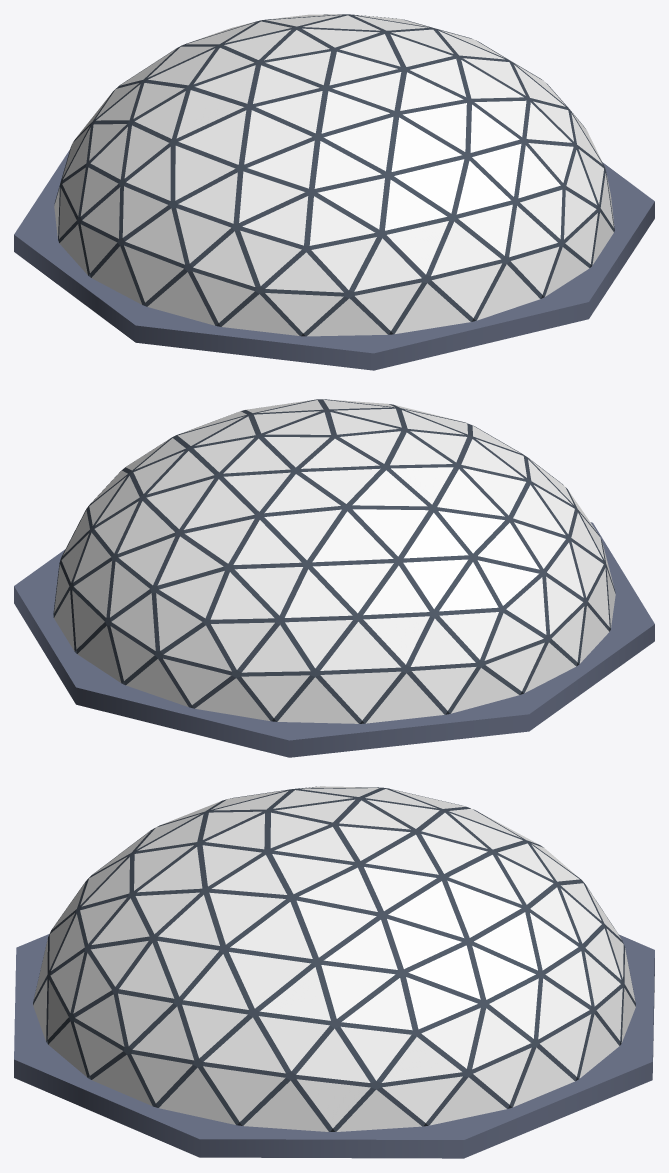
File: RoundRoof.FBX
The picture shows the model from 3 angles, top to bottom: view 1: azimuth 30°, elevation 25°; view 2: azimuth 150°, elevation 25°; view 3: azimuth 270°, elevation 25°; orthographic projection. The views are drawn at different scales.
Visible parts, largest first — view 1: Box001; view 2: Box001; view 3: Box001.
Boxes of the visible parts, left/top/right/bottom form: Box001: left=14, top=14, right=654, bottom=370; Box001: left=14, top=399, right=654, bottom=757; Box001: left=14, top=786, right=654, bottom=1158.
Bounding box in the file's own units: 41.16 × 14.06 × 41.16.
